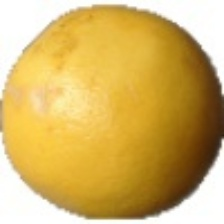grapes: (42, 49, 212, 187)
